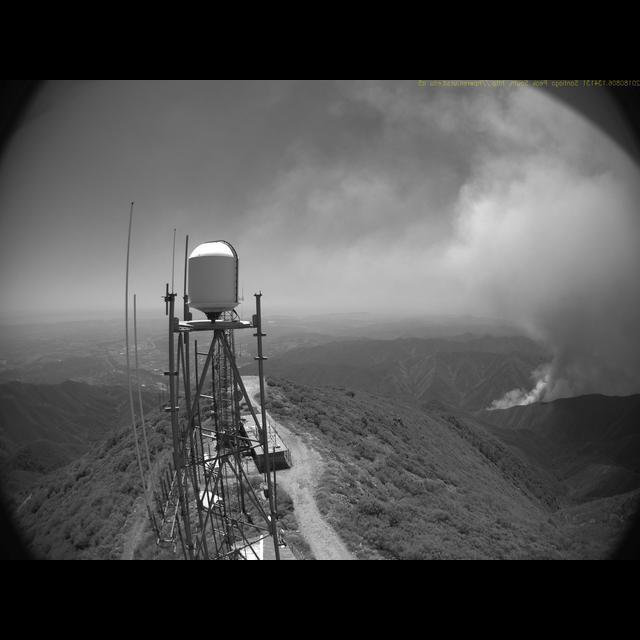Smoke: (455, 161, 638, 413)
